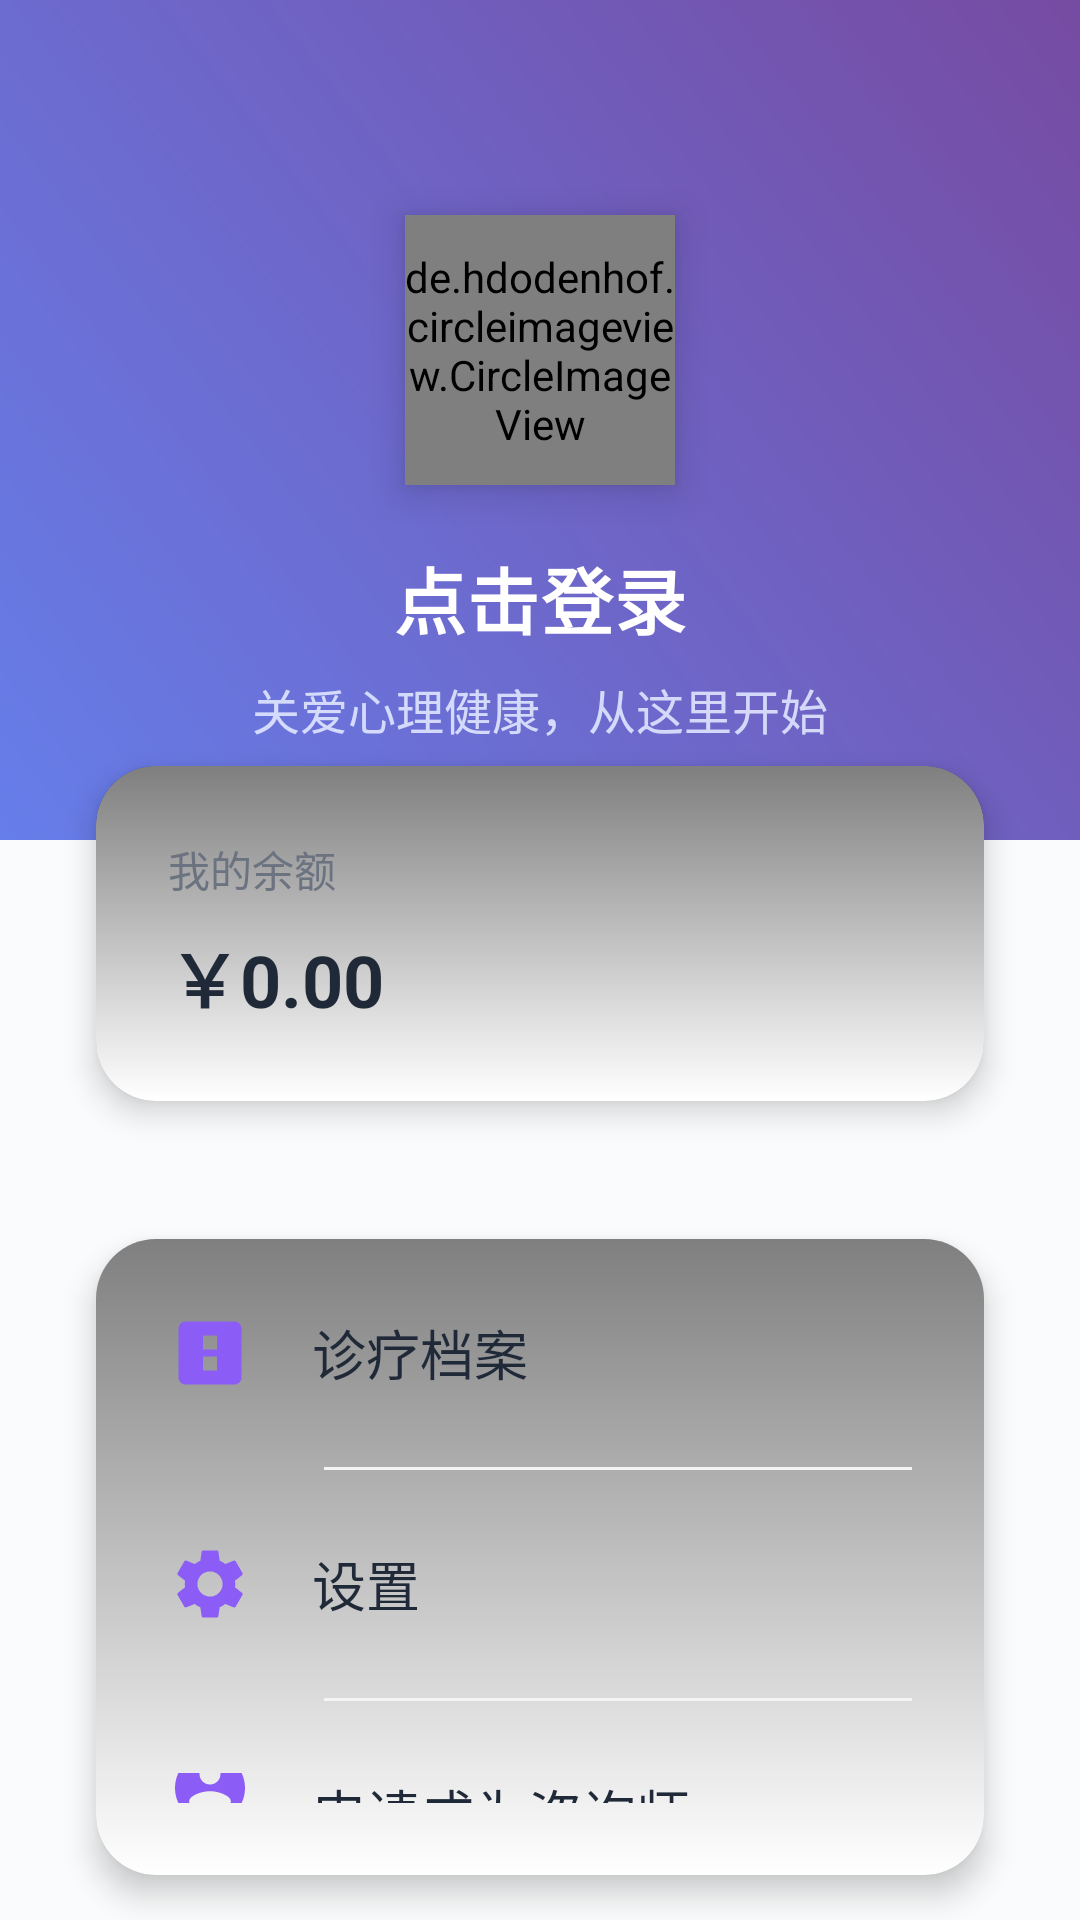

Screen size 1080px×1920px. Icon name, then its box in pixels as (x1, y1, x2, y2):
settings: (177, 1550, 243, 1618)
